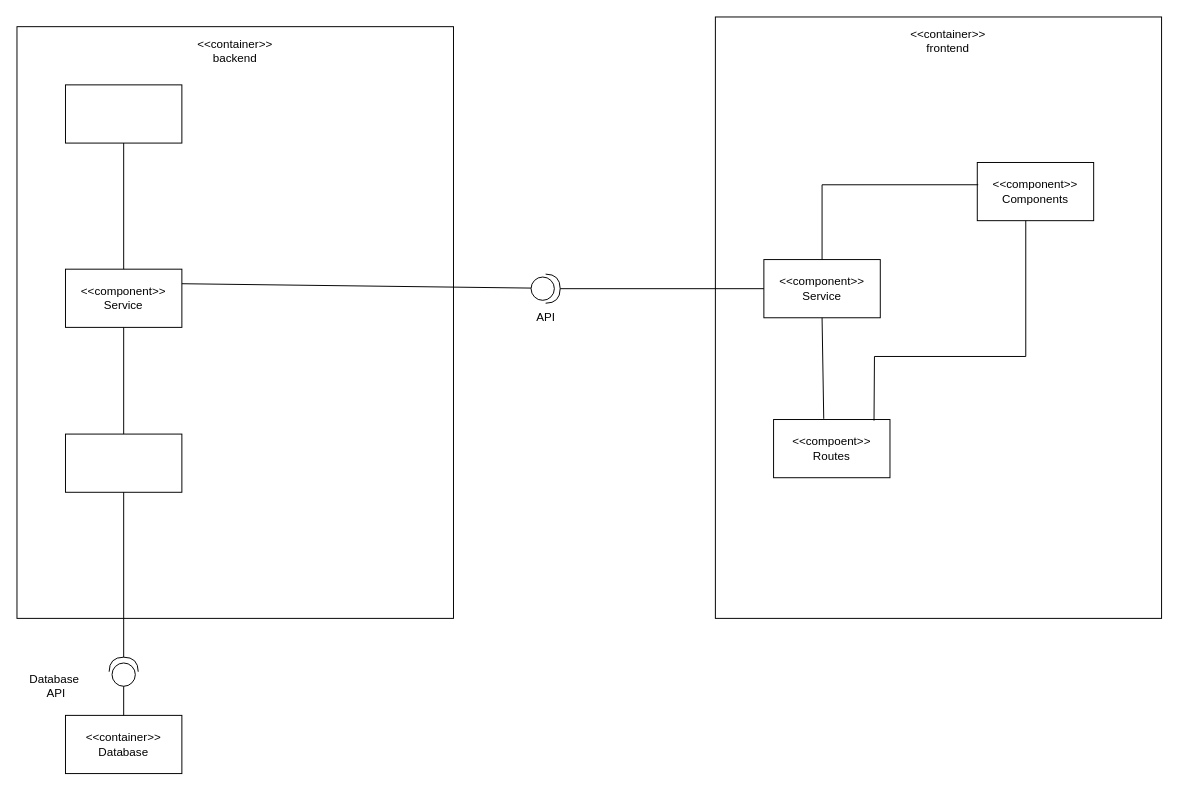
Some shapes in this 1179 by 791 pixel diagram are drawn without their labels. The shapes that lost their labels are listed below. From the top down, each one's centre as x and y in pixels, then its label:
At point (123, 113): "<<component>> Controller".
At point (123, 462): "<<component>> Repository".
